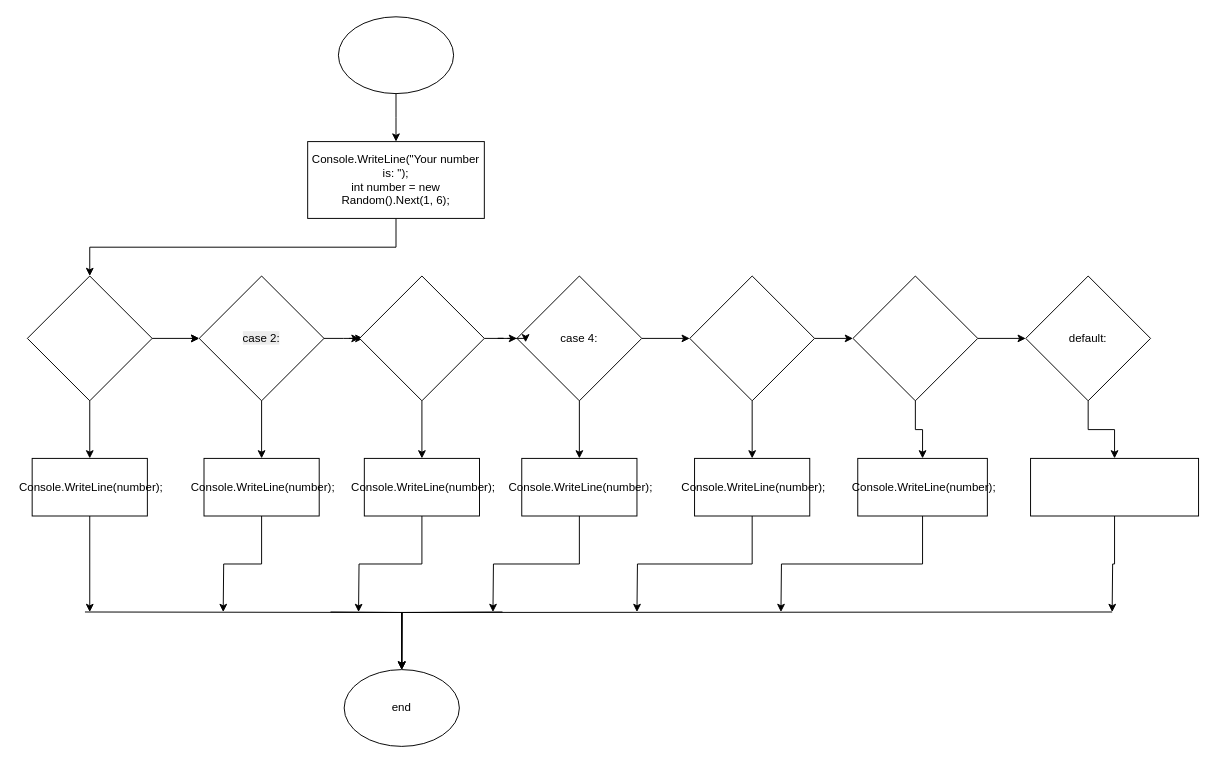
This 1215x763 diagram has some shape labels left out. Here are the shapes that lost their labels. From the top down, the box of each, then its label:
(337, 16, 454, 94): start
(26, 275, 152, 401): case 1:
(359, 275, 484, 401): case 3:
(689, 275, 815, 401): case 5:
(852, 275, 978, 401): case 6:
(1030, 457, 1199, 516): Console.WriteLine("Wrong one");
